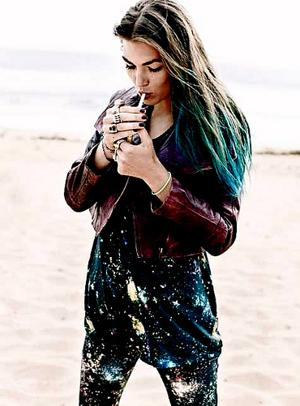person: (64, 1, 251, 405)
